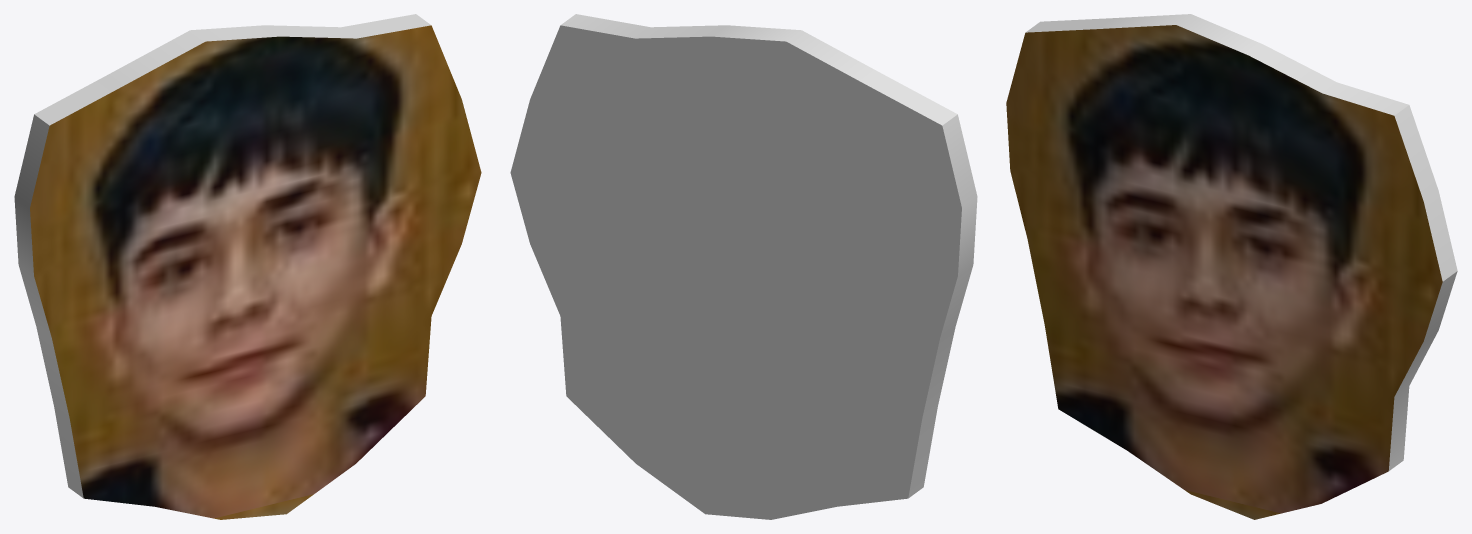
File: cagatayface.fbx
3 renders of one model, left to right at view 1: azimuth 30°, elevation 25°; view 2: azimuth 150°, elevation 25°; view 3: azimuth 330°, elevation 25°, orthographic. The views are drawn at different scales.
Parts seen in each view (by area): view 1: cagatayface; view 2: cagatayface; view 3: cagatayface.
Boxes of the visible parts, x1,y1,x2,y2 form: cagatayface: (14,14,481,519); cagatayface: (510,14,977,519); cagatayface: (1006,14,1457,519).
Bounding box in the file's own units: 261 × 272 × 15.53.
